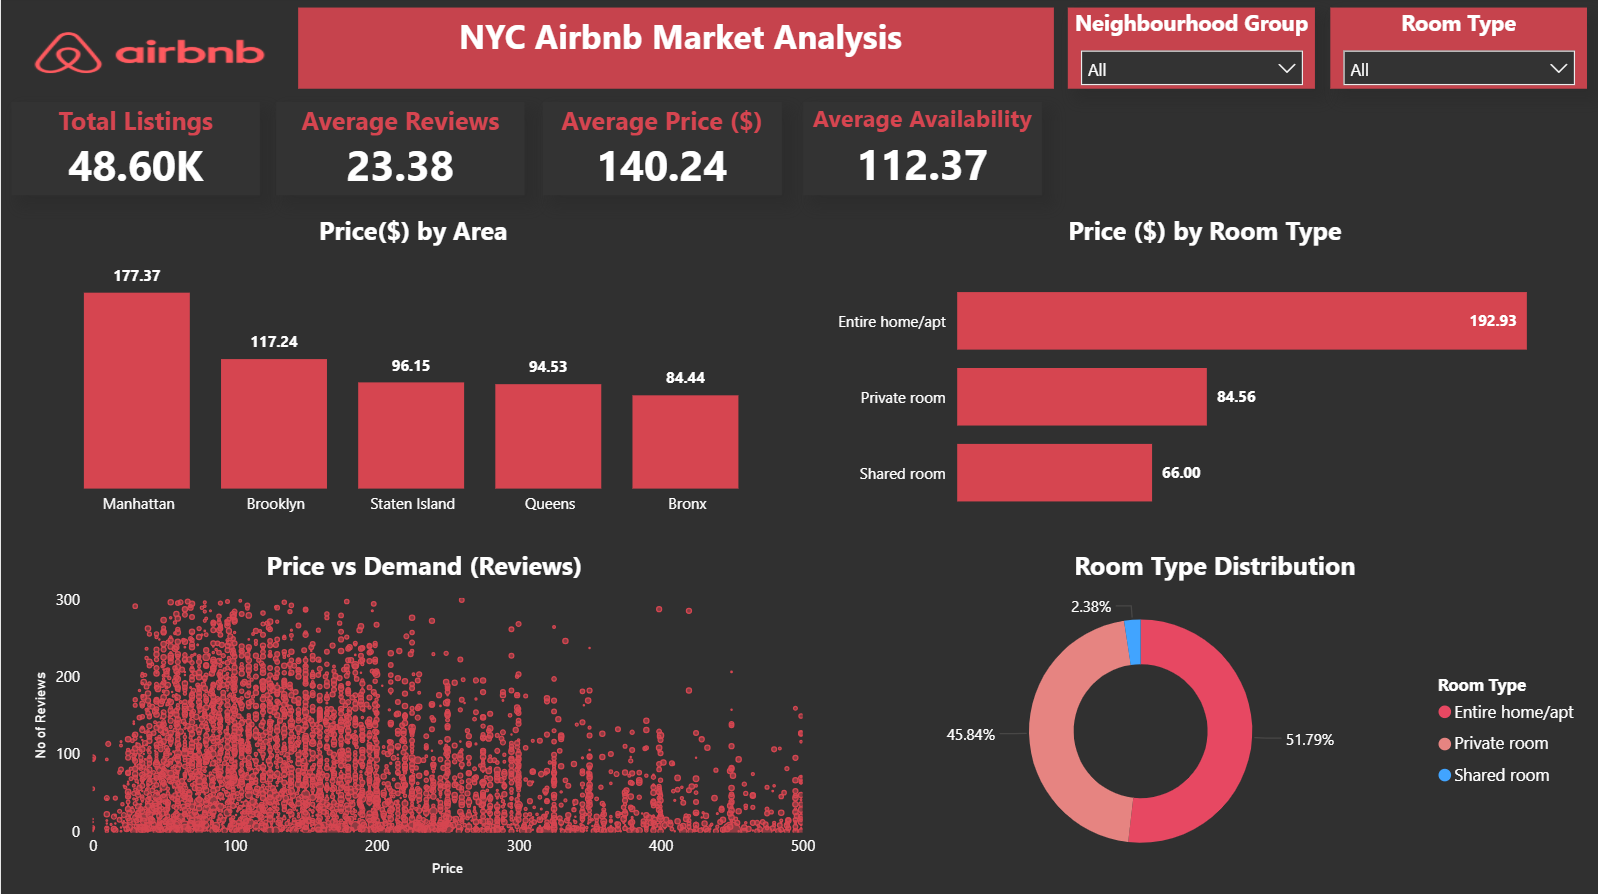

Layout of this report page (visuals, bound fields, positions):
{"tool":"powerbi","page":{"name":"Page 1","canvas":[1280,720],"ordinal":0},"visuals":[{"type":"card","title":"Total Listings","fields":{"Values":["CountNonNull(cleaned_airbnb.id)"]},"box":[8.3,84.5,198.4,74.4],"z":0},{"type":"card","title":"Average Reviews","fields":{"Values":["Avg(cleaned_airbnb.number_of_reviews)"]},"box":[219.5,84.5,198.4,74.4],"z":1000},{"type":"card","title":"Average Price ($)","fields":{"Values":["Avg(cleaned_airbnb.price)"]},"box":[432.6,84.5,190.1,74.4],"z":2000},{"type":"card","title":"Average Availability","fields":{"Values":["Avg(cleaned_airbnb.availability_365)"]},"box":[640.1,84.5,190.1,74.4],"z":3000},{"type":"slicer","title":"Neighbourhood Group","fields":{"Values":["cleaned_airbnb.neighbourhood_group"]},"box":[851.3,9.2,197.5,64.3],"z":4000},{"type":"slicer","title":"Room Type","fields":{"Values":["cleaned_airbnb.room_type"]},"box":[1060.7,9.2,204.8,64.3],"z":5000},{"type":"textbox","box":[236.9,9.2,602.5,64.3],"z":6000},{"type":"clusteredColumnChart","title":"Price($)  by Area","fields":{"Category":["cleaned_airbnb.Neighbourhood_group"],"Y":["Avg(cleaned_airbnb.price)"]},"box":[17.4,172.7,622.7,251.6],"z":7000},{"type":"clusteredBarChart","title":"Price ($) by Room Type","fields":{"Category":["cleaned_airbnb.room_type"],"Y":["Avg(cleaned_airbnb.price)"]},"box":[654.8,172.7,610.7,262.7],"z":8000},{"type":"scatterChart","title":"Price vs Demand (Reviews)","fields":{"X":["cleaned_airbnb.price"],"Y":["cleaned_airbnb.number_of_reviews"],"Size":["Sum(cleaned_airbnb.availability_365)"],"Series":["cleaned_airbnb.Neighbourhood_group"]},"box":[21.1,439.9,633.7,267.3],"z":9000},{"type":"donutChart","title":"Room Type Distribution","fields":{"Category":["cleaned_airbnb.room_type"],"Y":["CountNonNull(cleaned_airbnb.id)"]},"box":[667.7,439.9,601.5,267.3],"z":10000},{"type":"image","box":[0,0,236.9,90.9],"z":11000}]}

Visuals, with their boxes in screenshot pixels (x1, y1, x2, y2), scaled from the page's 1280x720 canvas onto the 1598x894 screenshot:
"Total Listings" card: [x1=10, y1=105, x2=258, y2=197]
"Average Reviews" card: [x1=274, y1=105, x2=522, y2=197]
"Average Price ($)" card: [x1=540, y1=105, x2=777, y2=197]
"Average Availability" card: [x1=799, y1=105, x2=1036, y2=197]
"Neighbourhood Group" slicer: [x1=1063, y1=11, x2=1309, y2=91]
"Room Type" slicer: [x1=1324, y1=11, x2=1580, y2=91]
textbox: [x1=296, y1=11, x2=1048, y2=91]
"Price($)  by Area" clusteredColumnChart: [x1=22, y1=214, x2=799, y2=527]
"Price ($) by Room Type" clusteredBarChart: [x1=817, y1=214, x2=1580, y2=541]
"Price vs Demand (Reviews)" scatterChart: [x1=26, y1=546, x2=817, y2=878]
"Room Type Distribution" donutChart: [x1=834, y1=546, x2=1585, y2=878]
image: [x1=0, y1=0, x2=296, y2=113]
